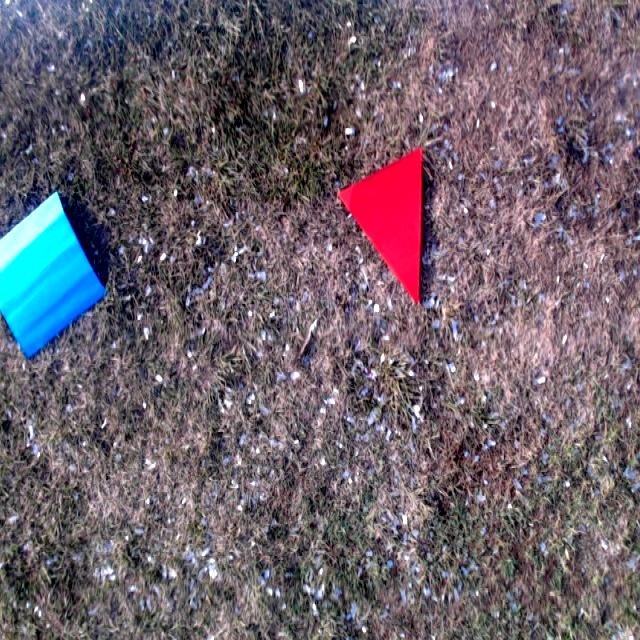red_triangle: (337, 146, 422, 304)
